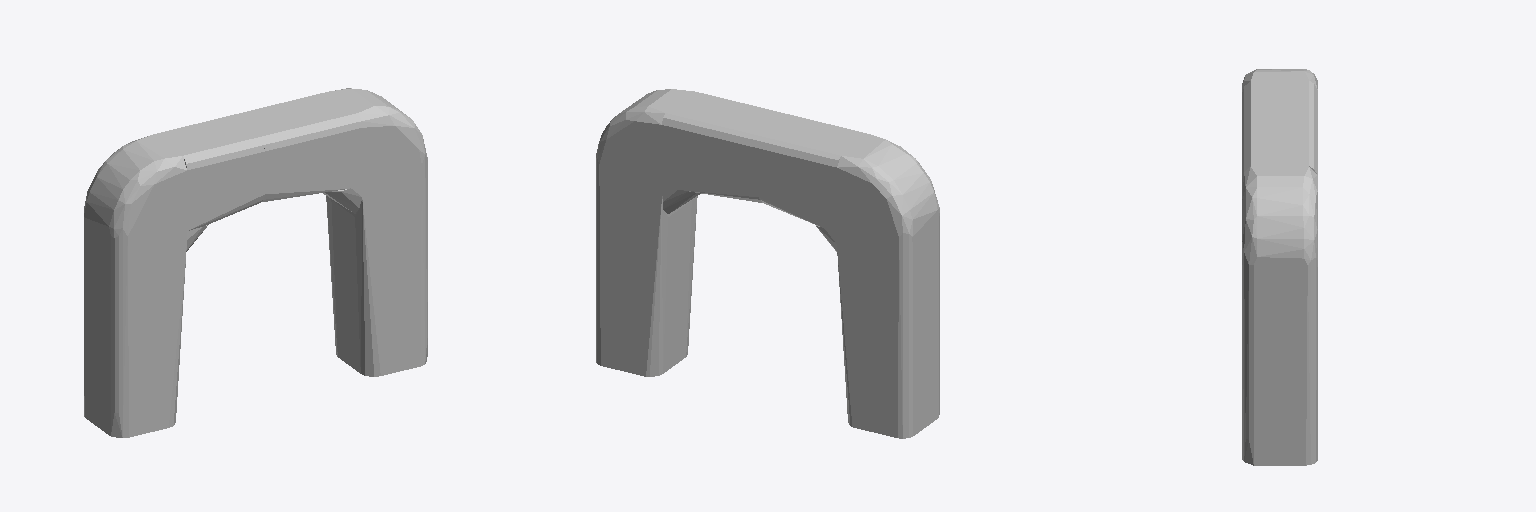
Rendered from handle_link_vhacd2.obj.
3 views of the same model, side by side, from view 1: azimuth 30°, elevation 25°; view 2: azimuth 150°, elevation 25°; view 3: azimuth 270°, elevation 25° (orthographic).
Visible parts, largest first — view 1: convex_0, convex_1, convex_5, convex_3, convex_4; view 2: convex_0, convex_1, convex_5, convex_3, convex_4; view 3: convex_1, convex_5, convex_3, convex_0.
Part boxes in pixels (x1,y1,x2,y2): convex_0: (84,134,186,437); convex_1: (326,88,427,376); convex_5: (232,92,361,201); convex_3: (154,115,264,230); convex_4: (323,186,361,213); convex_0: (837,134,939,438); convex_1: (596,89,697,376); convex_5: (662,92,791,202); convex_3: (759,115,869,230); convex_4: (662,186,700,213); convex_1: (1242,166,1317,465); convex_5: (1242,119,1317,177); convex_3: (1242,81,1317,129); convex_0: (1242,69,1317,91).
Bounding box in the file's own units: 0.1256 × 0.1003 × 0.0258.